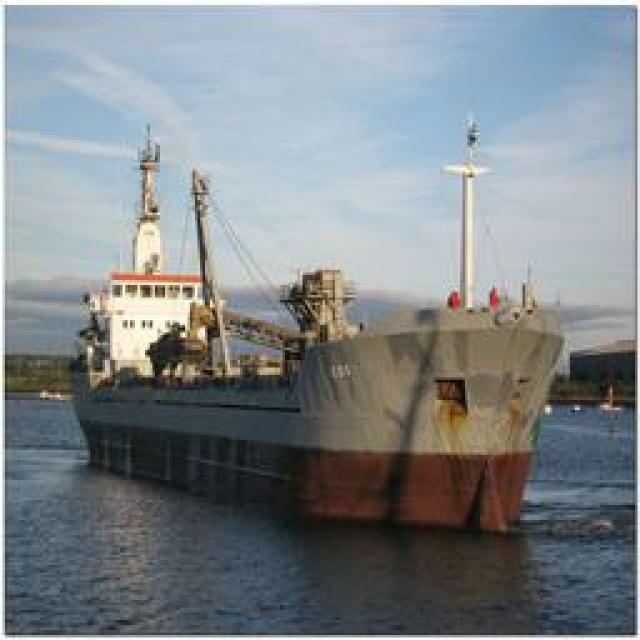ship2: (70, 116, 566, 534)
